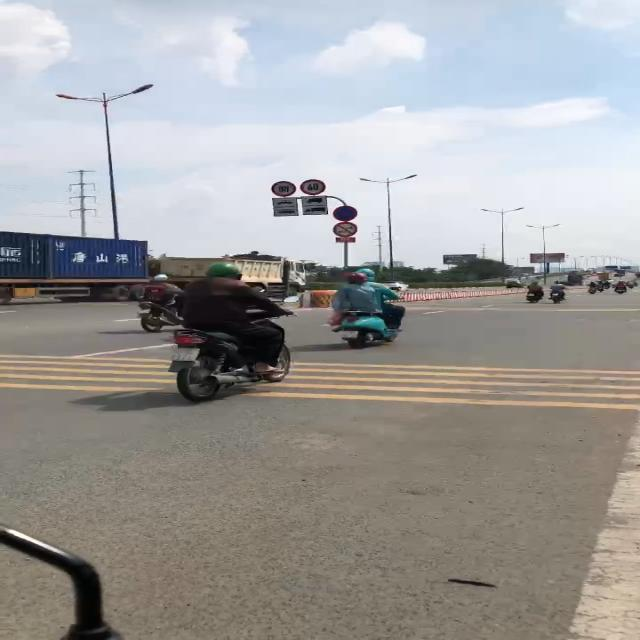Bien bao toc do toi da cho phep: (299, 178, 327, 196), (270, 180, 296, 198)
